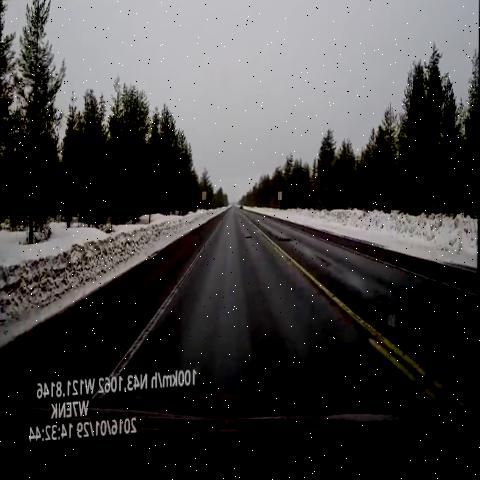pothole: (367, 295, 446, 365), (273, 233, 298, 251), (243, 231, 257, 249)
